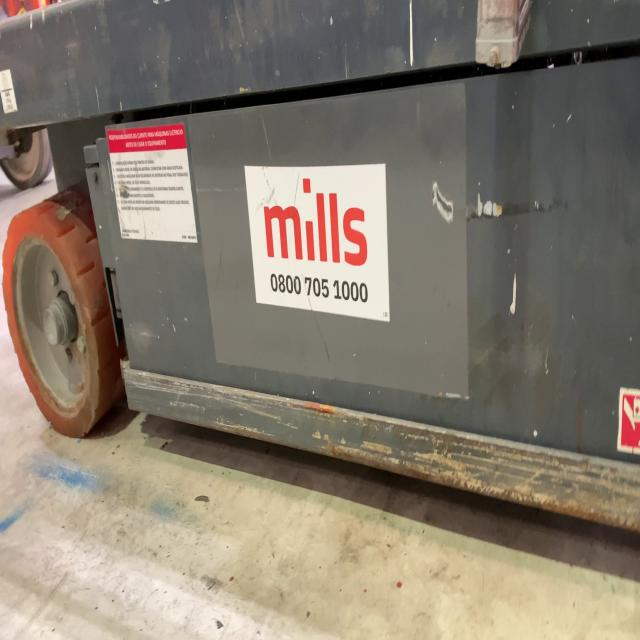Adesivos: (243, 163, 391, 328)
